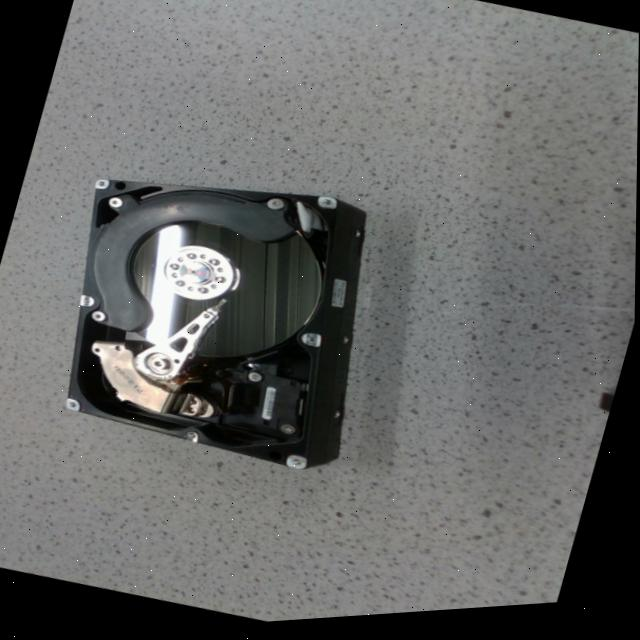actuator arm: (135, 311, 217, 384)
actuator axis: (148, 355, 172, 375)
case: (66, 179, 366, 472)
magnet: (92, 342, 188, 415)
pcb connector: (245, 375, 303, 438)
platter: (131, 221, 321, 358)
platter holder: (164, 248, 236, 302)
platter protector: (88, 193, 294, 332)
screw: (281, 427, 298, 438), (268, 202, 285, 213), (92, 312, 106, 323), (109, 198, 122, 209), (249, 375, 263, 384), (214, 278, 226, 285), (187, 254, 197, 260), (198, 289, 208, 295), (208, 261, 219, 266), (170, 265, 179, 271), (176, 282, 186, 287)
